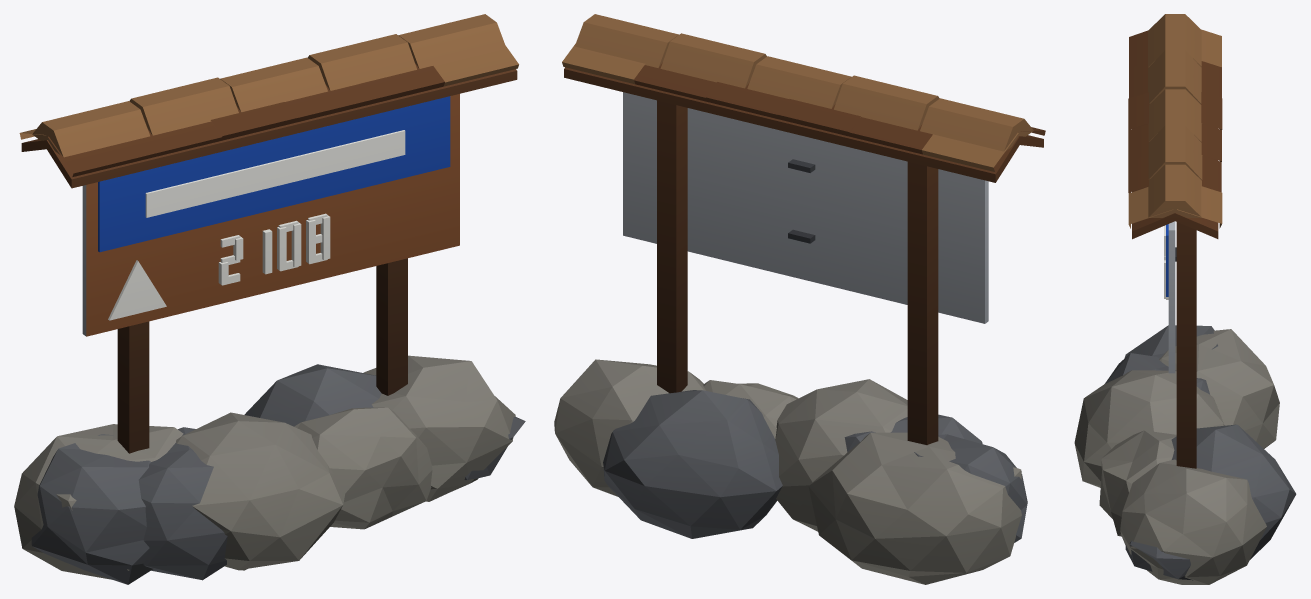
The model's file is Pass_Sign.fbx.
3 views of the same model, side by side, from view 1: azimuth 30°, elevation 25°; view 2: azimuth 150°, elevation 25°; view 3: azimuth 270°, elevation 25° (orthographic). The views are drawn at different scales.
Visible parts, largest first — view 1: Pass_Sign_LOD0; view 2: Pass_Sign_LOD0; view 3: Pass_Sign_LOD0.
Boxes of the visible parts, x1,y1,x2,y2 form: Pass_Sign_LOD0: (14,14,525,584); Pass_Sign_LOD0: (554,14,1045,584); Pass_Sign_LOD0: (1074,14,1296,584).
Size of what is drawn, in the model's own units: 3.32 by 3.21 by 1.55.
Materials: 1 (1 with a texture image).
